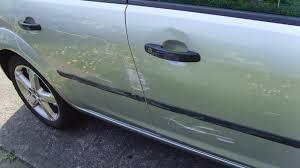doorouter-dent: (148, 8, 289, 156)
